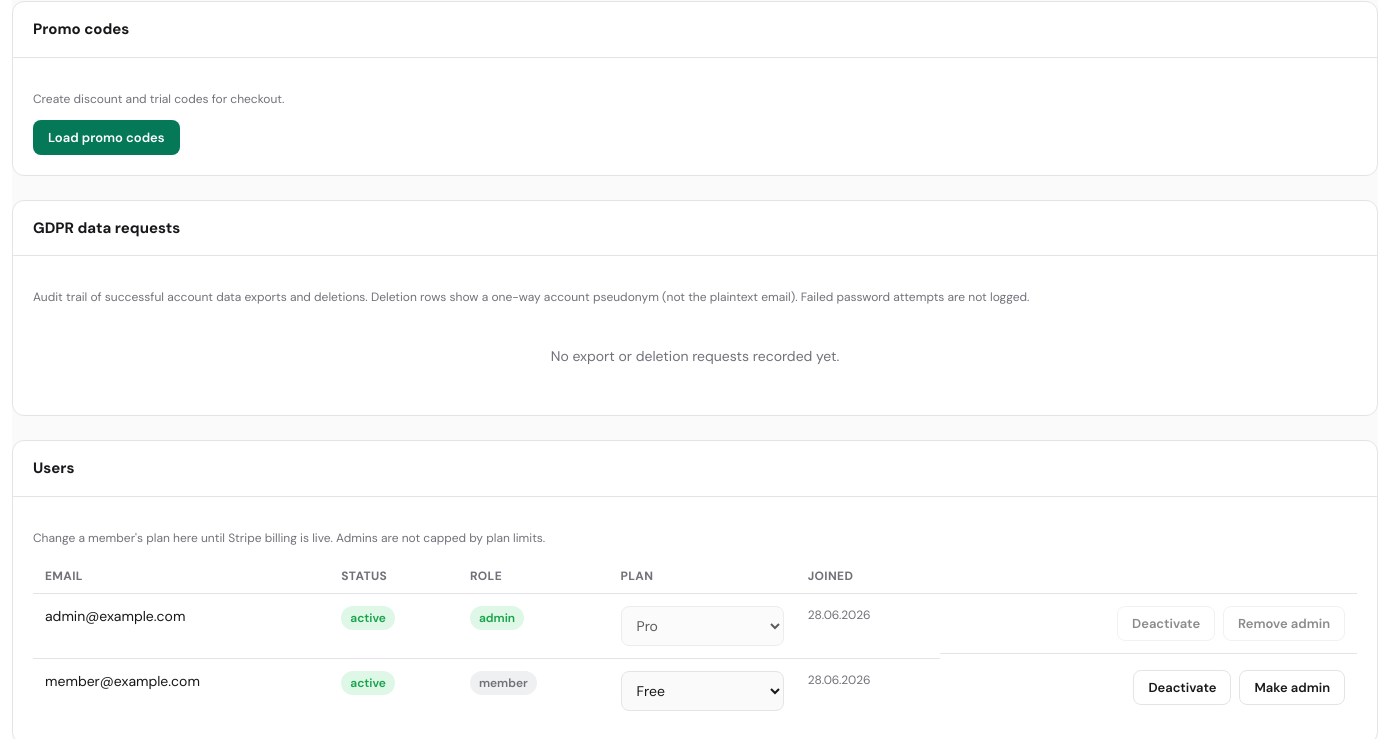
Test: AdminPage branch coverage › surfaces an error when updating a user fails
The width and height of the screenshot is (1378, 739).
(page scrolled)
Check: the text "member@example.com" is shown, box [33,658,329,722]
Click the button "Deactivate" in the row of "member@example.com": (1182, 688) [1133,670,1231,705]
(page scrolled)
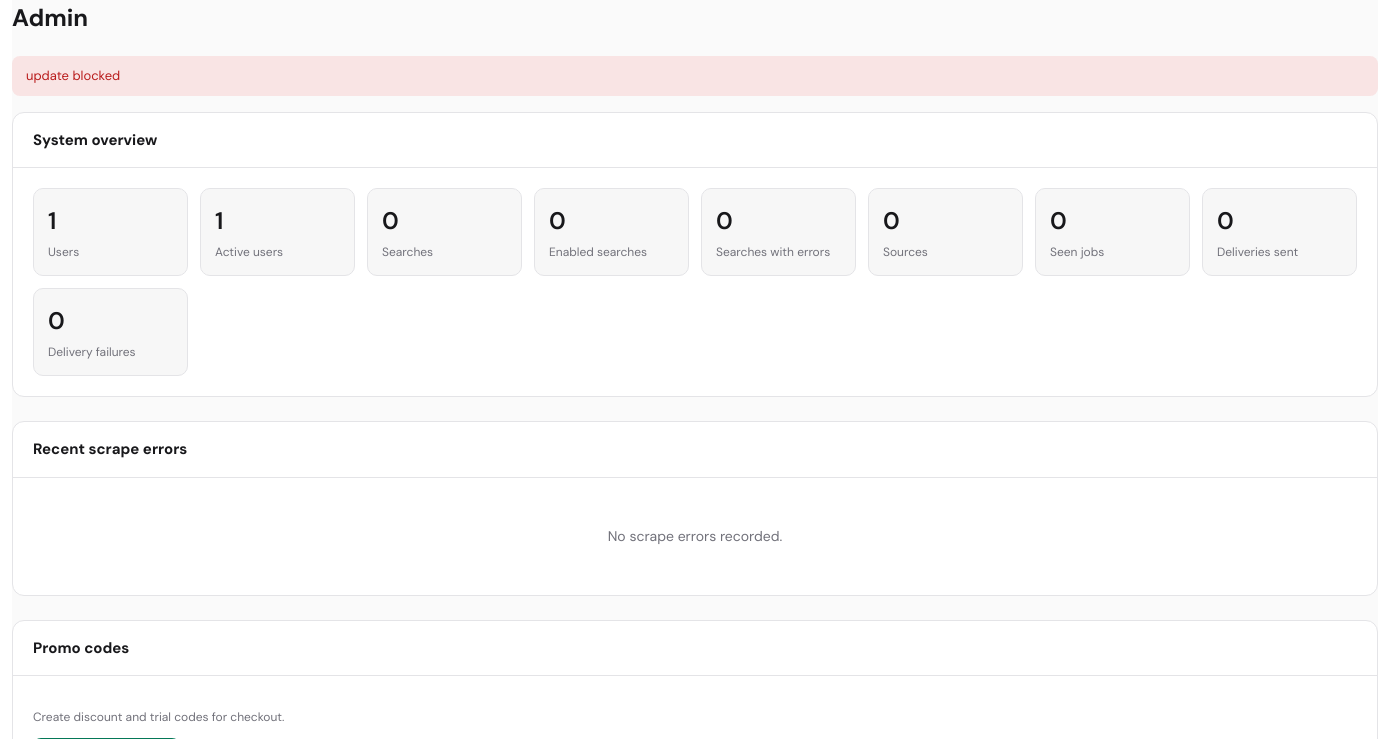
Check: the text "update blocked" is shown, box [12,56,1377,96]
